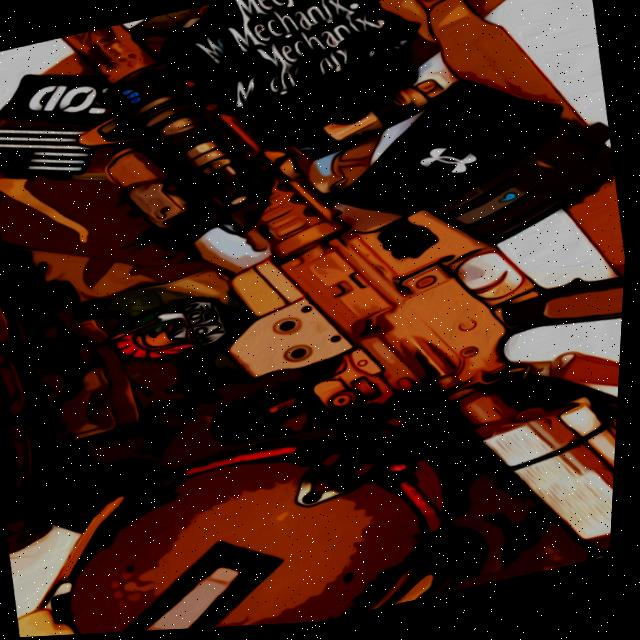firearm: (18, 0, 640, 638)
